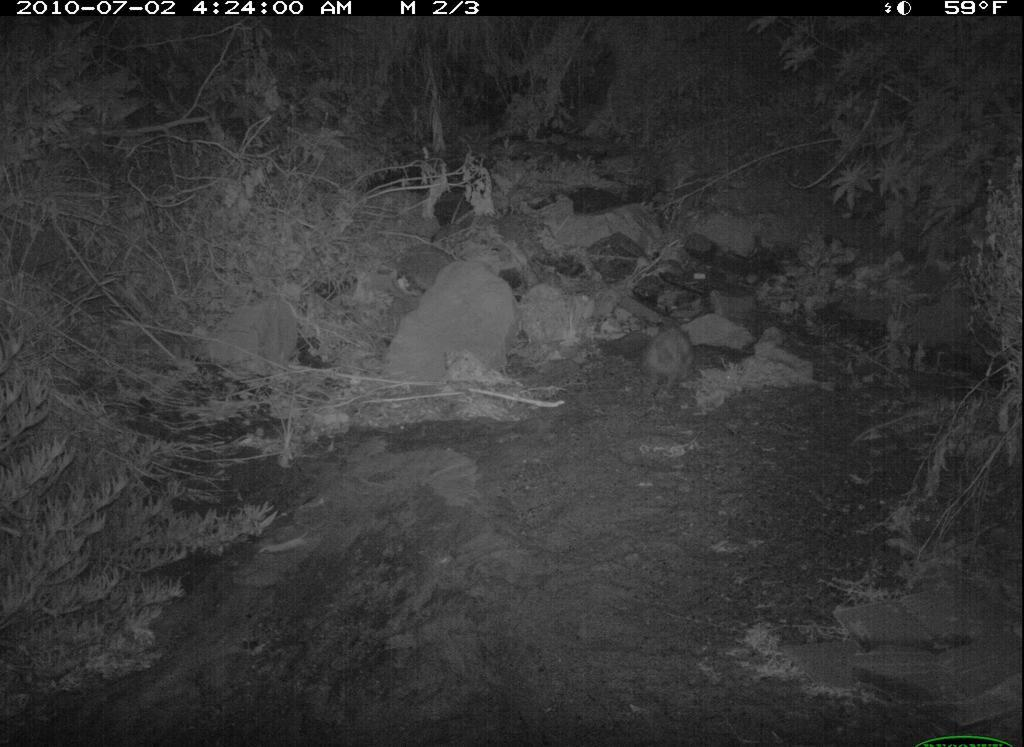opossum: (635, 314, 710, 400)
